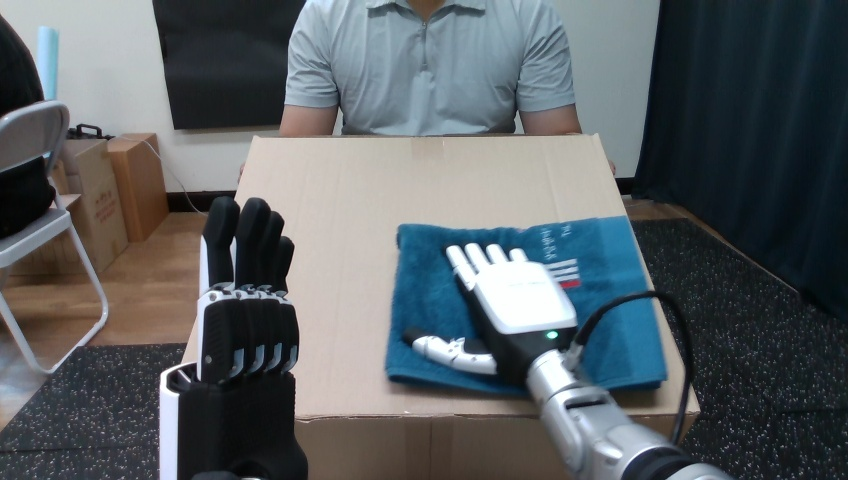left robot hand: (403, 243, 731, 479), (160, 197, 307, 479)
